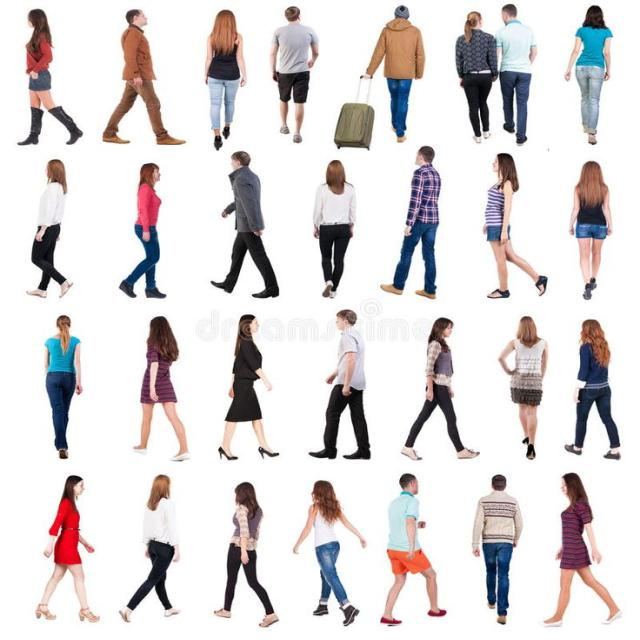person: (542, 472, 622, 627), (102, 8, 186, 145), (400, 317, 480, 460), (292, 480, 367, 626), (379, 473, 447, 625), (210, 150, 279, 298), (482, 152, 548, 299), (213, 482, 279, 628), (35, 474, 100, 622), (379, 145, 441, 299), (308, 309, 371, 459), (118, 474, 181, 622), (218, 314, 279, 460), (17, 8, 82, 145), (131, 315, 190, 461), (362, 4, 424, 142), (563, 318, 621, 459), (471, 474, 523, 624), (497, 316, 548, 459), (25, 158, 74, 298), (269, 6, 319, 143), (564, 6, 612, 144), (118, 162, 166, 299), (311, 159, 356, 298), (203, 9, 247, 150), (568, 160, 612, 300), (494, 3, 536, 144), (455, 11, 498, 143), (44, 315, 82, 459)
